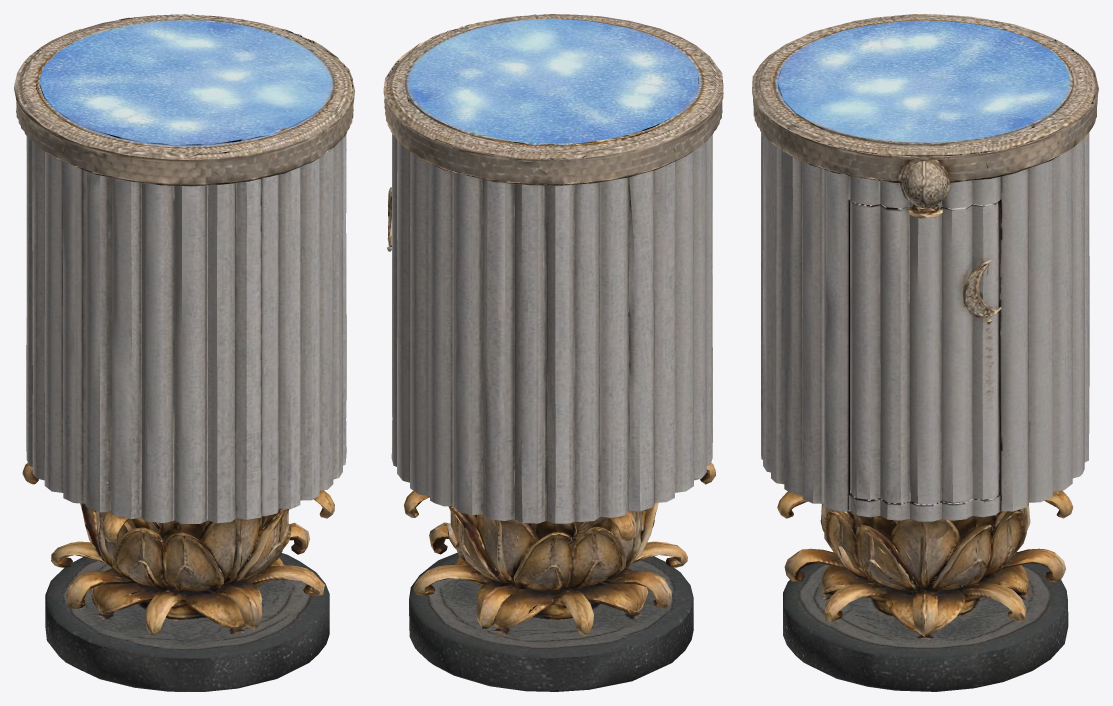
The model's file is SE-01_bedside_table_game.glb.
3 views of the same model, side by side, from view 1: azimuth 30°, elevation 25°; view 2: azimuth 150°, elevation 25°; view 3: azimuth 270°, elevation 25° (orthographic).
Parts seen in each view (by area): view 1: SE-01_bedside_table; view 2: SE-01_bedside_table; view 3: SE-01_bedside_table.
Part boxes in pixels (x1,y1,x2,y2): SE-01_bedside_table: [14, 14, 354, 691]; SE-01_bedside_table: [383, 14, 723, 691]; SE-01_bedside_table: [752, 14, 1098, 691].
Bounding box in the file's own units: 0.3654 × 0.62 × 0.3541.
Materials: 1 (1 with a texture image).
